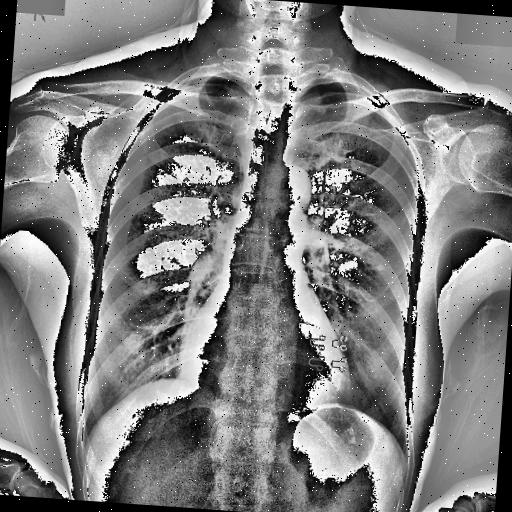11- Pleural thickening: (192, 74, 236, 86)
2- Calcification: (310, 238, 332, 264), (310, 238, 326, 248), (376, 263, 386, 272), (294, 194, 302, 204), (377, 264, 385, 272)
3- Cardiomegaly: (176, 326, 356, 408)
8- Nodule-Mass: (376, 263, 386, 271)
